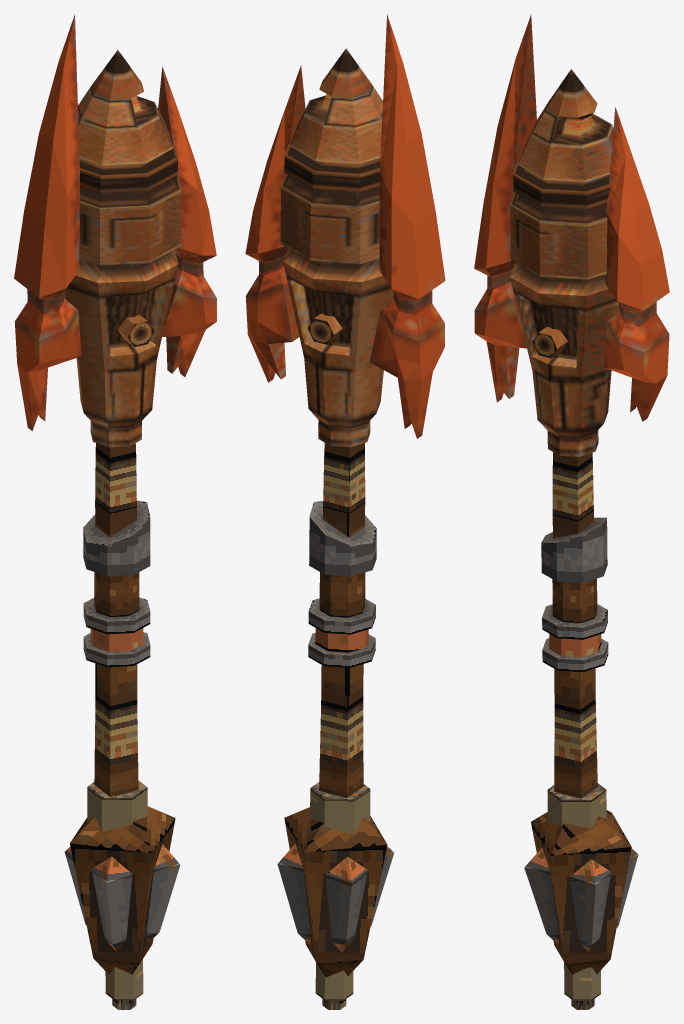
The model's file is Fighting Staff.obj.
3 views of the same model, side by side, from view 1: azimuth 30°, elevation 25°; view 2: azimuth 150°, elevation 25°; view 3: azimuth 330°, elevation 25° (orthographic). The views are drawn at different scales.
Parts seen in each view (by area): view 1: model8610_materia.005; view 2: model8610_materia.005; view 3: model8610_materia.005.
Part boxes in pixels (x1=…): model8610_materia.005: x1=14, y1=14, x2=216, y2=1009; model8610_materia.005: x1=245, y1=14, x2=445, y2=1009; model8610_materia.005: x1=474, y1=14, x2=669, y2=1009.
Size of the model in its own units: 0.8652 by 4.7 by 0.5597.
